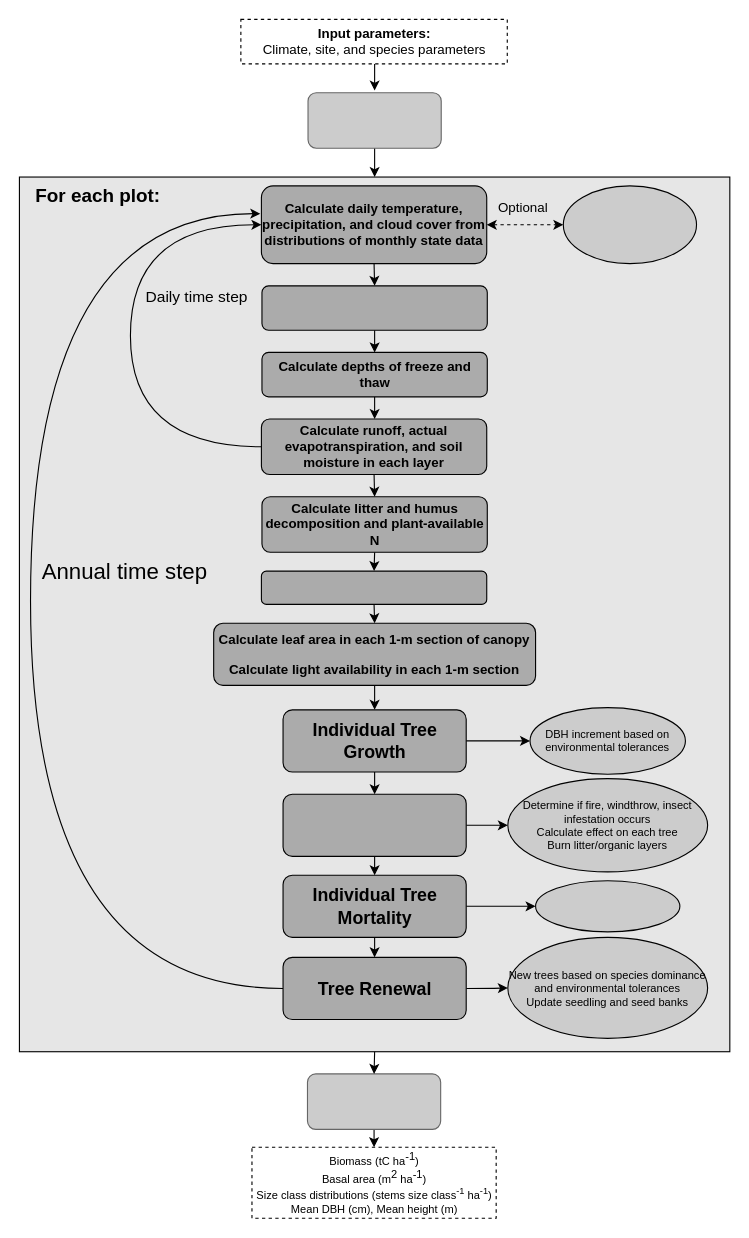
The diagram is 749 pixels wide and 1238 high, and some of its shapes have lost their labels. Here are the shapes that lost their labels. From the top down, the box of each, then its label:
(307, 92, 441, 148): Initialize Site
(562, 185, 697, 264): Modify based on input climate change parameters
(261, 285, 487, 330): Calculate surface solar radiation and potential evapotranspiration
(260, 570, 487, 604): Calculate moss growth and decay
(282, 793, 466, 856): Disturbance Routines
(534, 880, 680, 932): Age Stress/Low growth Disturbances
(306, 1073, 441, 1129): Output
